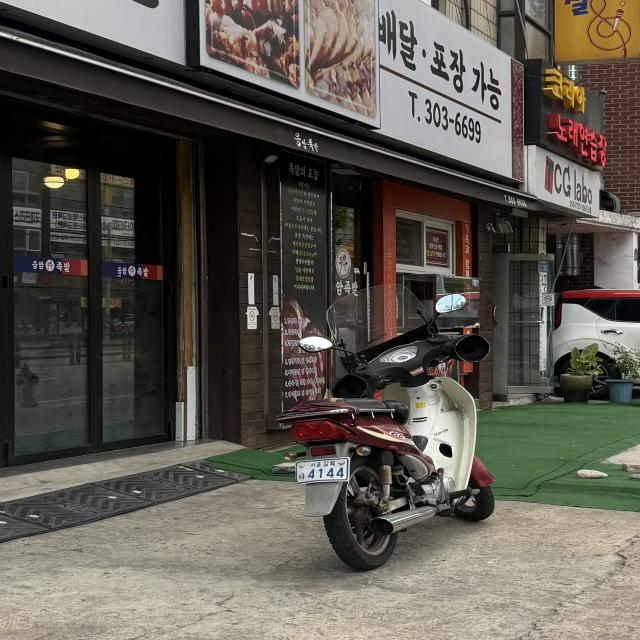motorcycle: (261, 273, 529, 578)
